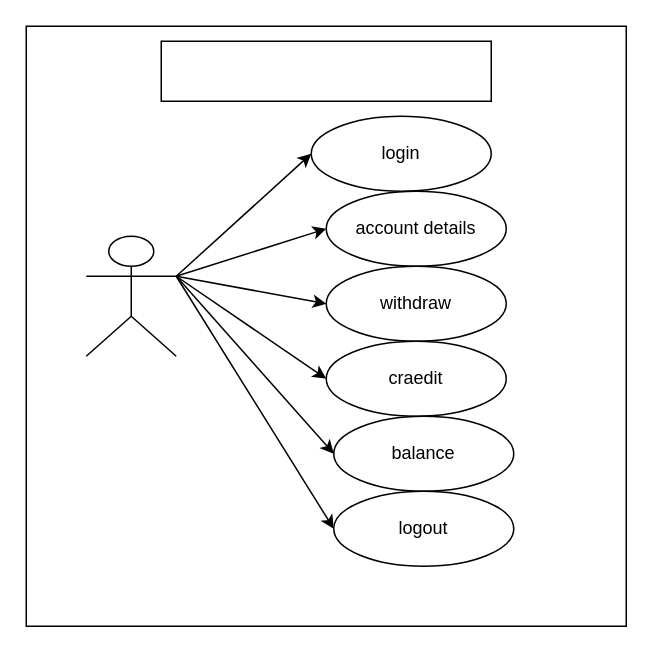
The diagram is 653 pixels wide and 653 high, and some of its shapes have lost their labels. Each missing label, with the centre of its shape:
"use-case diagram of user" belongs at point (325, 70).
"user" belongs at point (130, 295).
